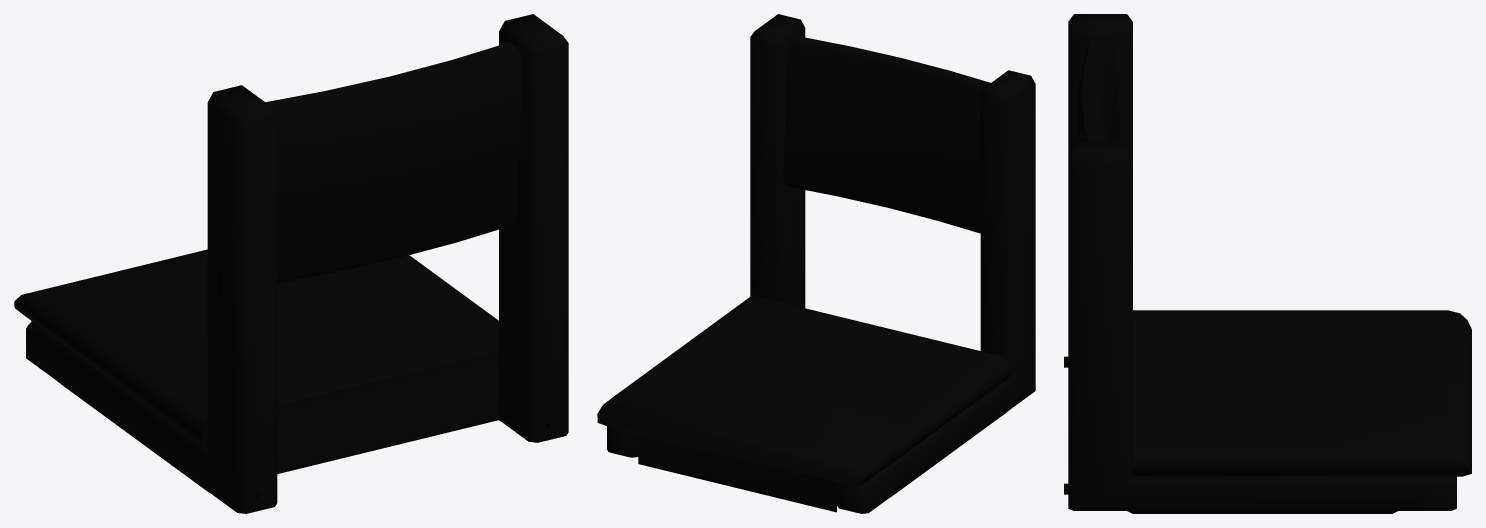
3 views of the same model, side by side, from view 1: azimuth 30°, elevation 25°; view 2: azimuth 150°, elevation 25°; view 3: azimuth 270°, elevation 25° (orthographic). The views are drawn at different scales.
Visible parts, largest first — view 1: Joint_0_Object_0, Joint_0_Object_2; view 2: Joint_0_Object_0, Joint_0_Object_2; view 3: Joint_0_Object_2, Joint_0_Object_0.
Boxes of the visible parts, left/top/right/bottom form: Joint_0_Object_0: left=26, top=14, right=568, bottom=513; Joint_0_Object_2: left=14, top=249, right=498, bottom=449; Joint_0_Object_0: left=607, top=14, right=1035, bottom=513; Joint_0_Object_2: left=597, top=295, right=1011, bottom=487; Joint_0_Object_2: left=1133, top=310, right=1471, bottom=476; Joint_0_Object_0: left=1068, top=14, right=1456, bottom=513.
Bounding box in the file's own units: 590 × 680 × 692.
3 materials, 3 textured.
